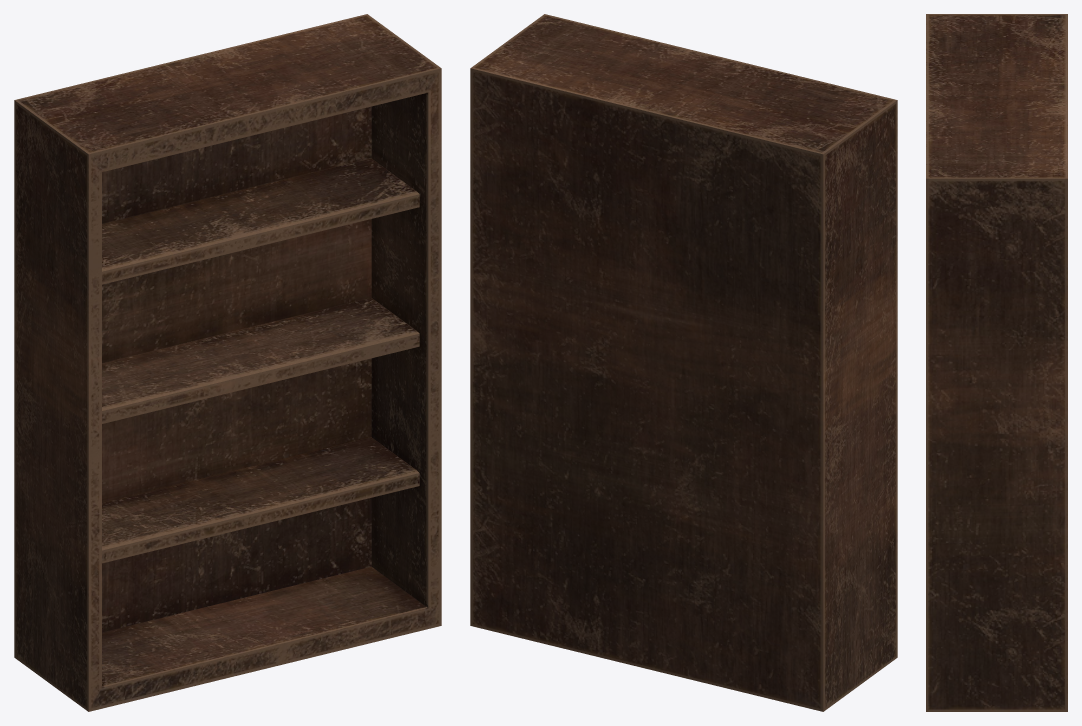
The model's file is old_bookshelf.glb.
3 renders of one model, left to right at view 1: azimuth 30°, elevation 25°; view 2: azimuth 150°, elevation 25°; view 3: azimuth 270°, elevation 25°, orthographic. The views are drawn at different scales.
Visible parts, largest first — view 1: Book_Self_exported3:Mesh; view 2: Book_Self_exported3:Mesh; view 3: Book_Self_exported3:Mesh.
Part boxes in pixels (x1,y1,x2,y2): Book_Self_exported3:Mesh: (14, 14, 441, 711); Book_Self_exported3:Mesh: (470, 14, 897, 711); Book_Self_exported3:Mesh: (926, 14, 1067, 711).
Bounding box in the file's own units: 1.32 × 2 × 0.4823.
Materials: 1 (1 with a texture image).
